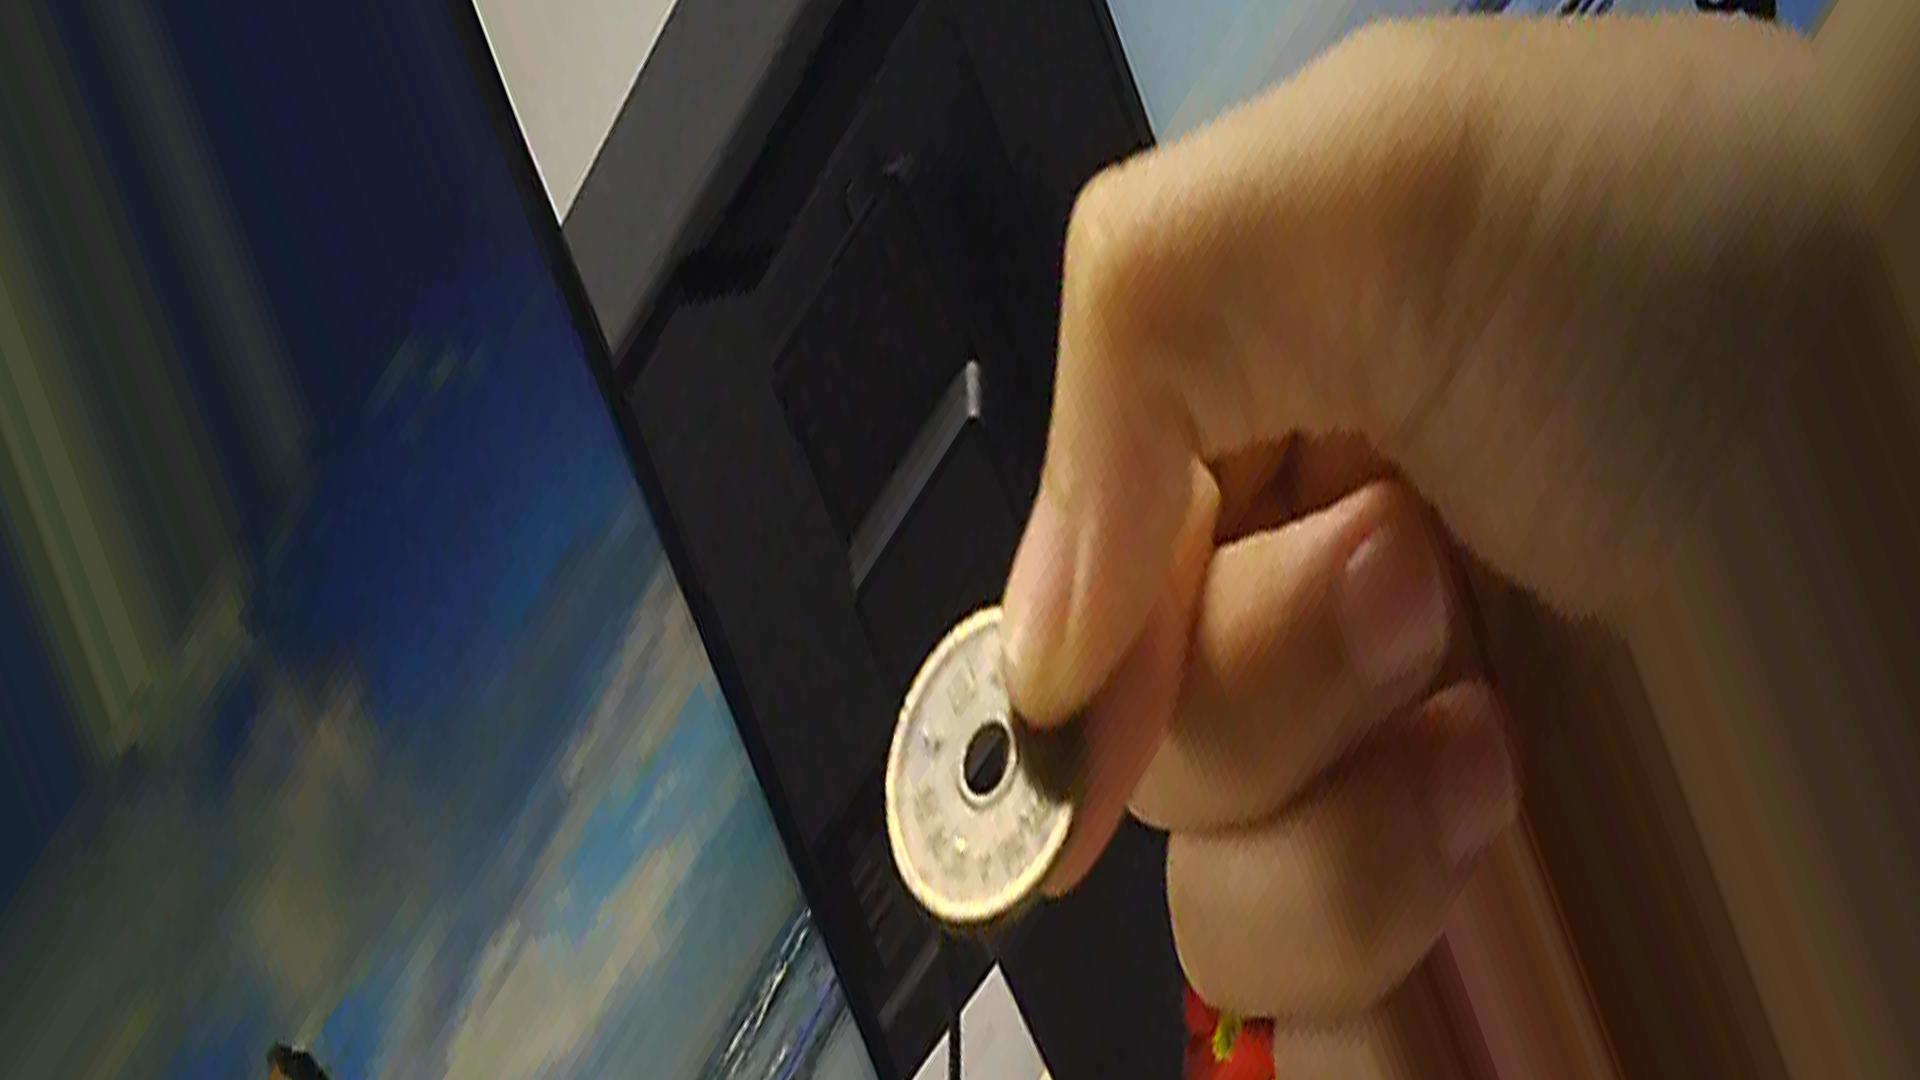5 Yen: (868, 611, 1087, 943)
